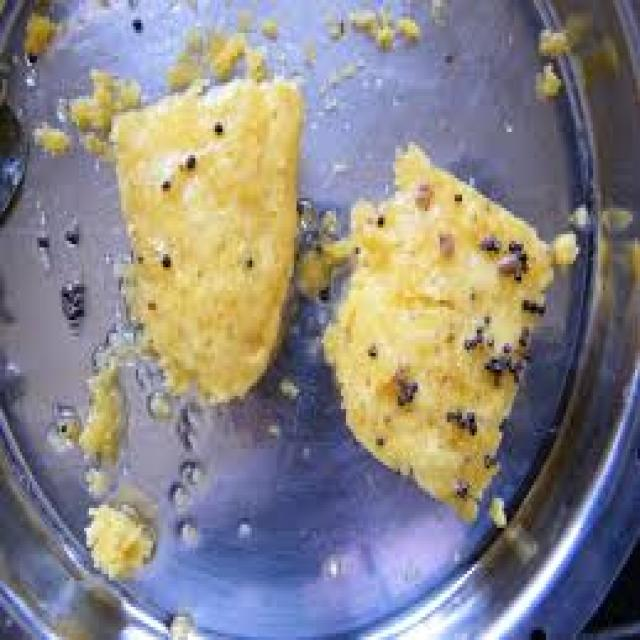DHOKLA: (324, 142, 576, 518), (111, 76, 301, 396)
